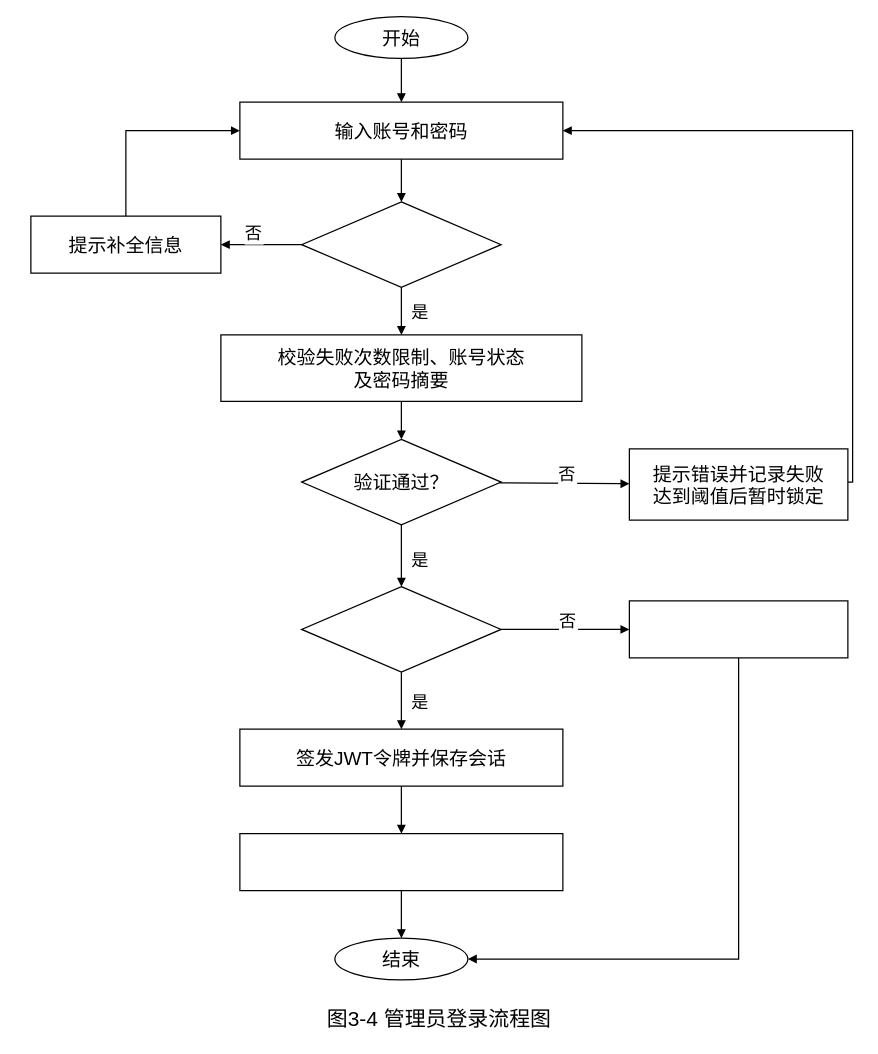
Some shapes in this 878 by 1054 pixel diagram are drawn without their labels. Here are the shapes that lost their labels. From the top down, the centre of each, then its label:
pixel 401 244: 必填项完整？
pixel 401 629: 角色允许登录？
pixel 738 629: 提示账号角色已停用
pixel 401 862: 按角色进入管理员工作台
